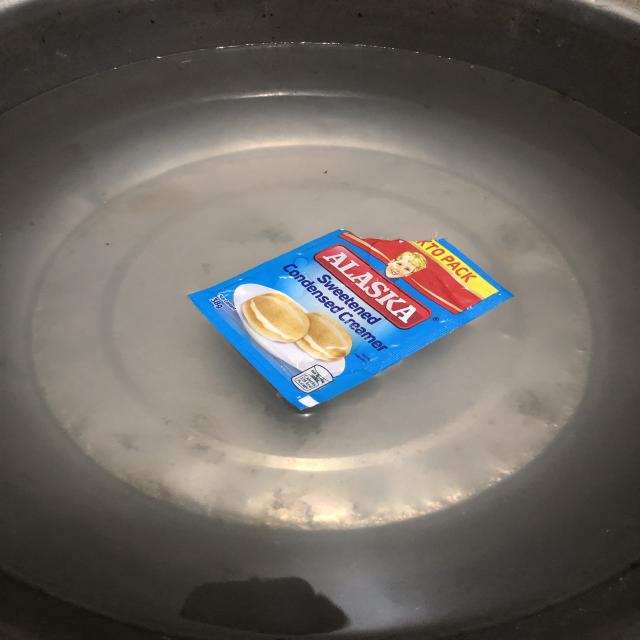Plastic Wrapper: (182, 231, 508, 414)
